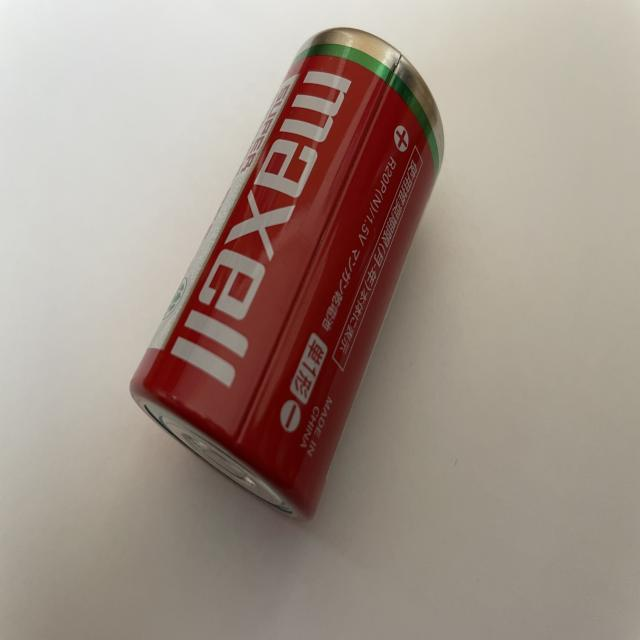hazardous waste: (126, 25, 448, 528)
